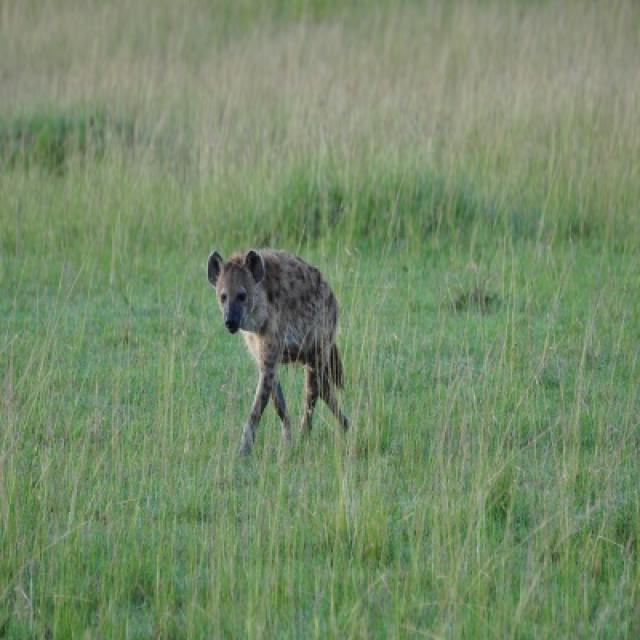hyena: (206, 250, 349, 464)
